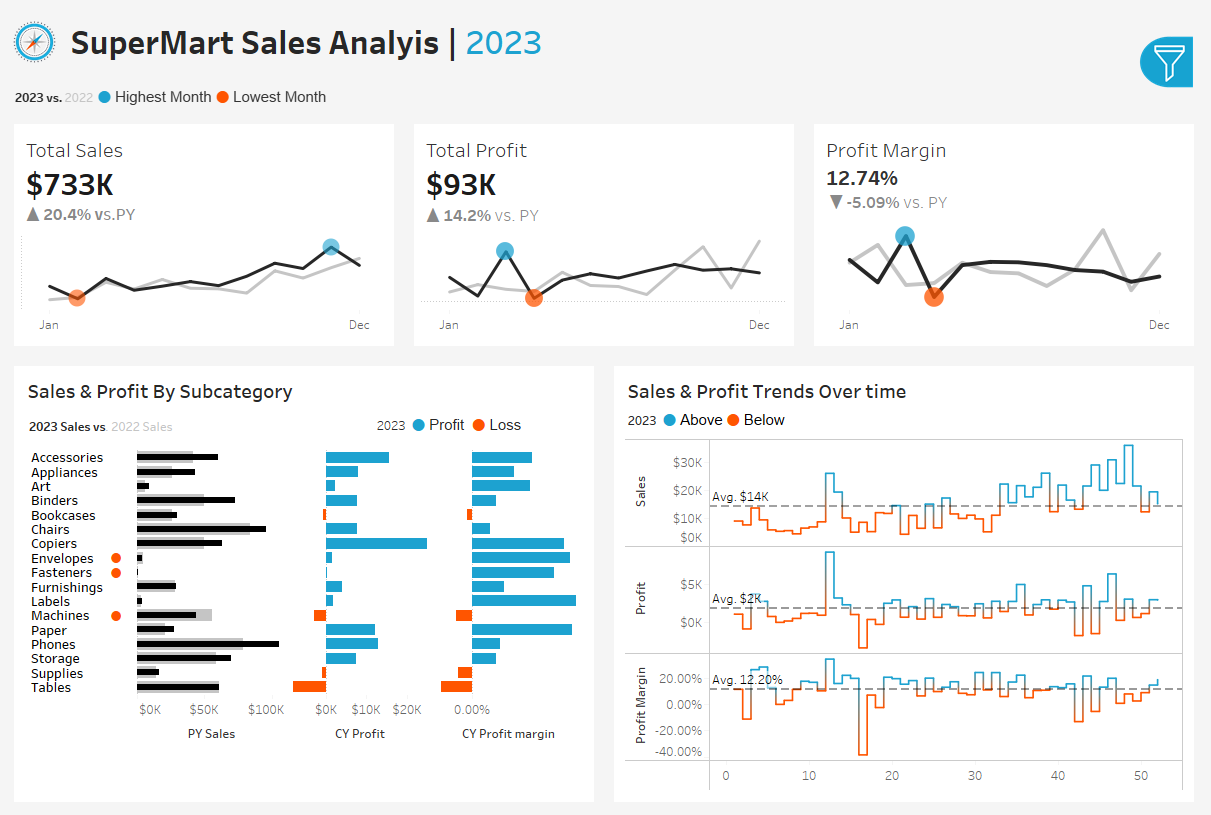

The page's visual inventory and layout, read from the dashboard file:
{"tool":"tableau","page":{"name":"Sales Dashboard","canvas":[1200,800],"ordinal":0},"visuals":[{"type":"image","param":"D:/2025/job/project portfolio/baraa sales dashboard/Sales Dashboard Materials/Da","box":[0,0,60,59]},{"type":"text","box":[60,0,691,59]},{"type":"blank","box":[988,10,200,61]},{"type":"dashboard-object","box":[1129,23,65,54]},{"type":"worksheet","title":"Legend KPI","mark":"Automatic","box":[0,59,1200,53]},{"type":"text","box":[988,71,200,32]},{"type":"parameter","param":"[Parameters].[Parameter 1]","box":[988,103,200,52]},{"type":"worksheet","title":"KPI Sales","mark":"Line","rows":["Calculation_1737263561777496069"],"cols":["Order Date"],"box":[0,112,400,232]},{"type":"worksheet","title":"KPI Profit","mark":"Line","rows":["MIN/Max Sales (copy)_1737263561802665997"],"cols":["Order Date"],"box":[400,112,400,232]},{"type":"worksheet","title":"KPI Profit Margin","mark":"Automatic","rows":["Calculation_1935703422860058628"],"cols":["Order Date"],"box":[800,112,400,232]},{"type":"blank","box":[988,155,200,42]},{"type":"text","box":[988,197,200,29]},{"type":"filter","title":"KPI Sales","param":"[federated.1rbofjf1cl3a2s1355skc0tpgwr7].[none:Category:nk]","box":[988,226,200,52]},{"type":"filter","title":"KPI Sales","param":"[federated.1rbofjf1cl3a2s1355skc0tpgwr7].[none:Sub-Category:nk]","box":[988,278,200,52]},{"type":"blank","box":[988,330,200,32]},{"type":"text","box":[17,361,566,34]},{"type":"text","box":[617,361,566,34]},{"type":"text","box":[988,362,200,29]},{"type":"filter","title":"KPI Sales","param":"[federated.1rbofjf1cl3a2s1355skc0tpgwr7].[none:Region:nk]","box":[988,391,200,52]},{"type":"worksheet","title":"Legend sub cat chart","mark":"Automatic","box":[17,395,349,39]},{"type":"text","box":[366,395,217,39]},{"type":"text","box":[617,395,566,28]},{"type":"worksheet","title":"Weekly Trends","mark":"Automatic","rows":["Calculation_1737263561771016192","Calculation_1737263561798234122","Calculation_1935703422859231232"],"cols":["Order Date"],"box":[617,423,566,360]},{"type":"worksheet","title":"Sub Category comparision","mark":"Bar","rows":["Sub-Category","Calculation_439663919432663047"],"cols":["CY Sales (copy)_1737263561771356162","Calculation_1737263561771016192","Calculation_1737263561798234122","Calculation_1935703422859231232"],"box":[17,434,566,306.9]},{"type":"filter","title":"KPI Sales","param":"[federated.1rbofjf1cl3a2s1355skc0tpgwr7].[none:State:nk]","box":[988,443,200,52]},{"type":"filter","title":"KPI Sales","param":"[federated.1rbofjf1cl3a2s1355skc0tpgwr7].[none:City:nk]","box":[988,495,200,52]},{"type":"blank","box":[17,740.9,566,42]}]}

Visuals, with their boxes in screenshot pixels (x1, y1, x2, y2), scaled from the page's 1200x800 canvas onto the 1211x815 screenshot:
image: [0,0,61,60]
text: [61,0,758,60]
blank: [997,10,1199,72]
dashboard-object: [1139,23,1205,78]
"Legend KPI" worksheet: [0,60,1210,114]
text: [997,72,1199,105]
parameter: [997,105,1199,158]
"KPI Sales" worksheet (Line marks): [0,114,404,350]
"KPI Profit" worksheet (Line marks): [404,114,807,350]
"KPI Profit Margin" worksheet: [807,114,1210,350]
blank: [997,158,1199,201]
text: [997,201,1199,230]
"KPI Sales" filter: [997,230,1199,283]
"KPI Sales" filter: [997,283,1199,336]
blank: [997,336,1199,369]
text: [17,368,588,402]
text: [623,368,1194,402]
text: [997,369,1199,398]
"KPI Sales" filter: [997,398,1199,451]
"Legend sub cat chart" worksheet: [17,402,369,442]
text: [369,402,588,442]
text: [623,402,1194,431]
"Weekly Trends" worksheet: [623,431,1194,798]
"Sub Category comparision" worksheet (Bar marks): [17,442,588,755]
"KPI Sales" filter: [997,451,1199,504]
"KPI Sales" filter: [997,504,1199,557]
blank: [17,755,588,798]
